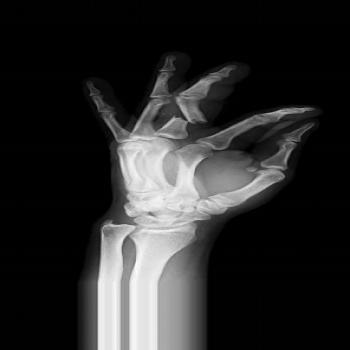Fracture: (166, 112, 215, 127)
